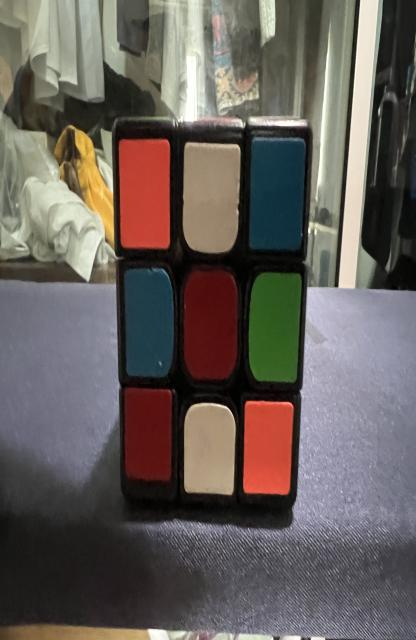Blue: (249, 137, 306, 250), (124, 268, 174, 378)
Green: (249, 272, 301, 383)
Orange: (119, 138, 171, 248), (243, 400, 293, 495)
Red: (184, 270, 238, 382), (124, 387, 172, 482)
White: (183, 142, 240, 253), (184, 403, 236, 495)
